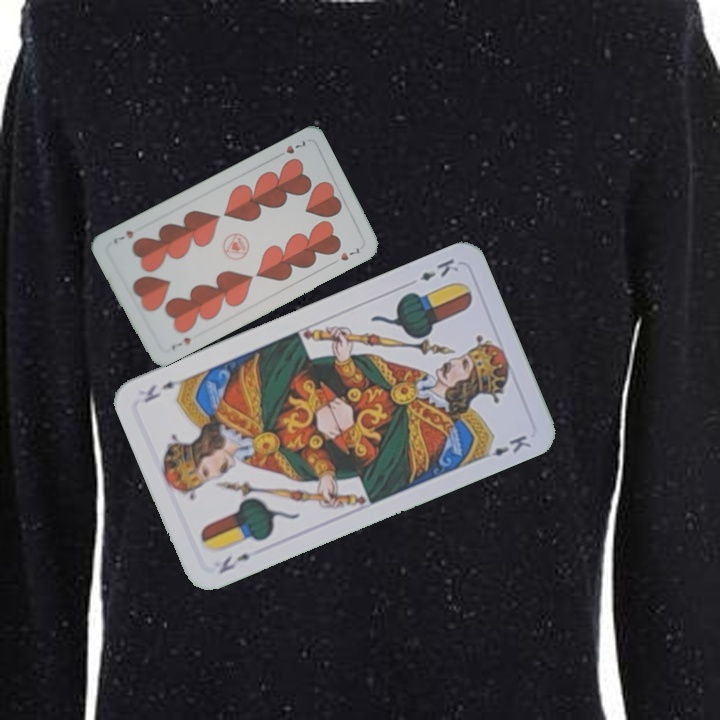EK: (415, 254, 462, 284), (214, 549, 253, 577)
H7: (273, 136, 308, 161), (167, 333, 193, 353)
